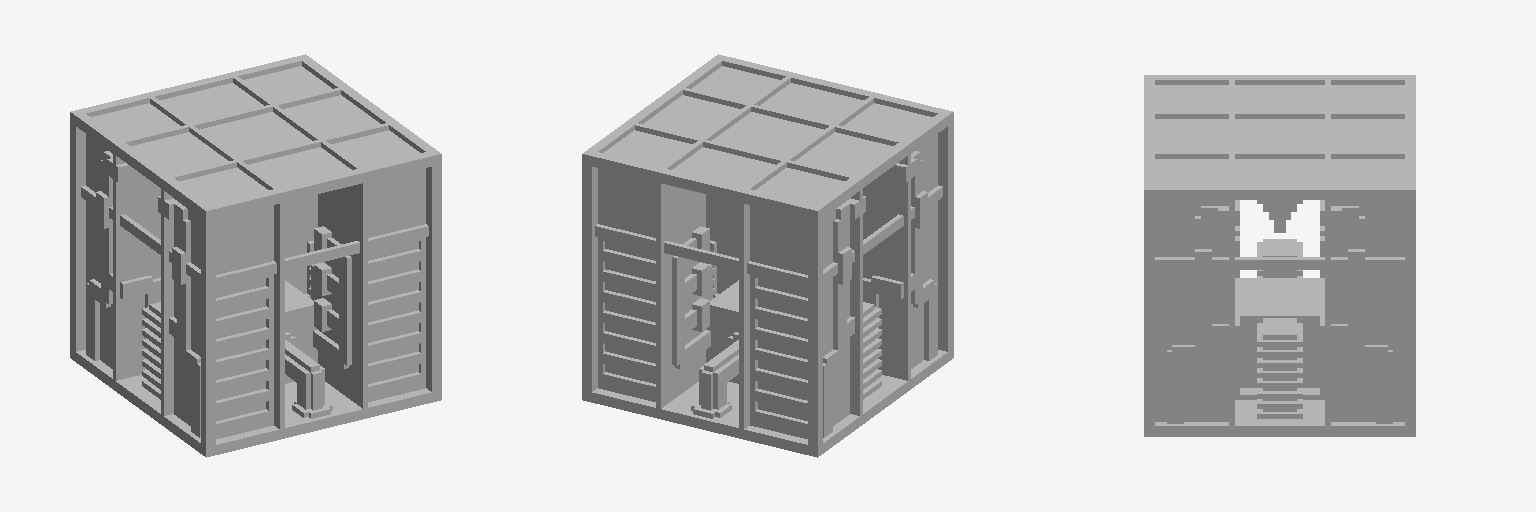
Rendered from growAccelerator.obj.
The picture shows the model from 3 angles: view 1: azimuth 30°, elevation 25°; view 2: azimuth 150°, elevation 25°; view 3: azimuth 270°, elevation 25°; orthographic projection.
Parts seen in each view (by area): view 1: Grow_Accelerator; view 2: Grow_Accelerator; view 3: Grow_Accelerator.
Boxes of the visible parts, <box> form: Grow_Accelerator: <box>70,54,441,457</box>; Grow_Accelerator: <box>582,54,953,457</box>; Grow_Accelerator: <box>1144,75,1415,436</box>.
Bounding box in the file's own units: 48 × 48 × 48.